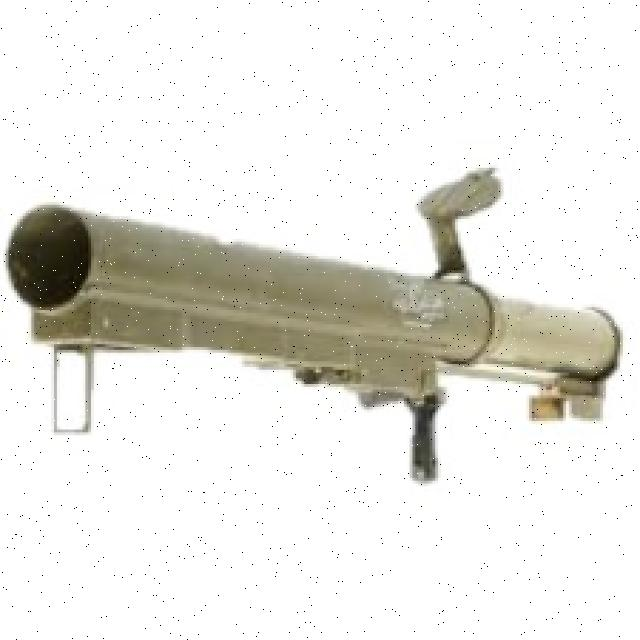bazooka: (1, 169, 632, 506)
